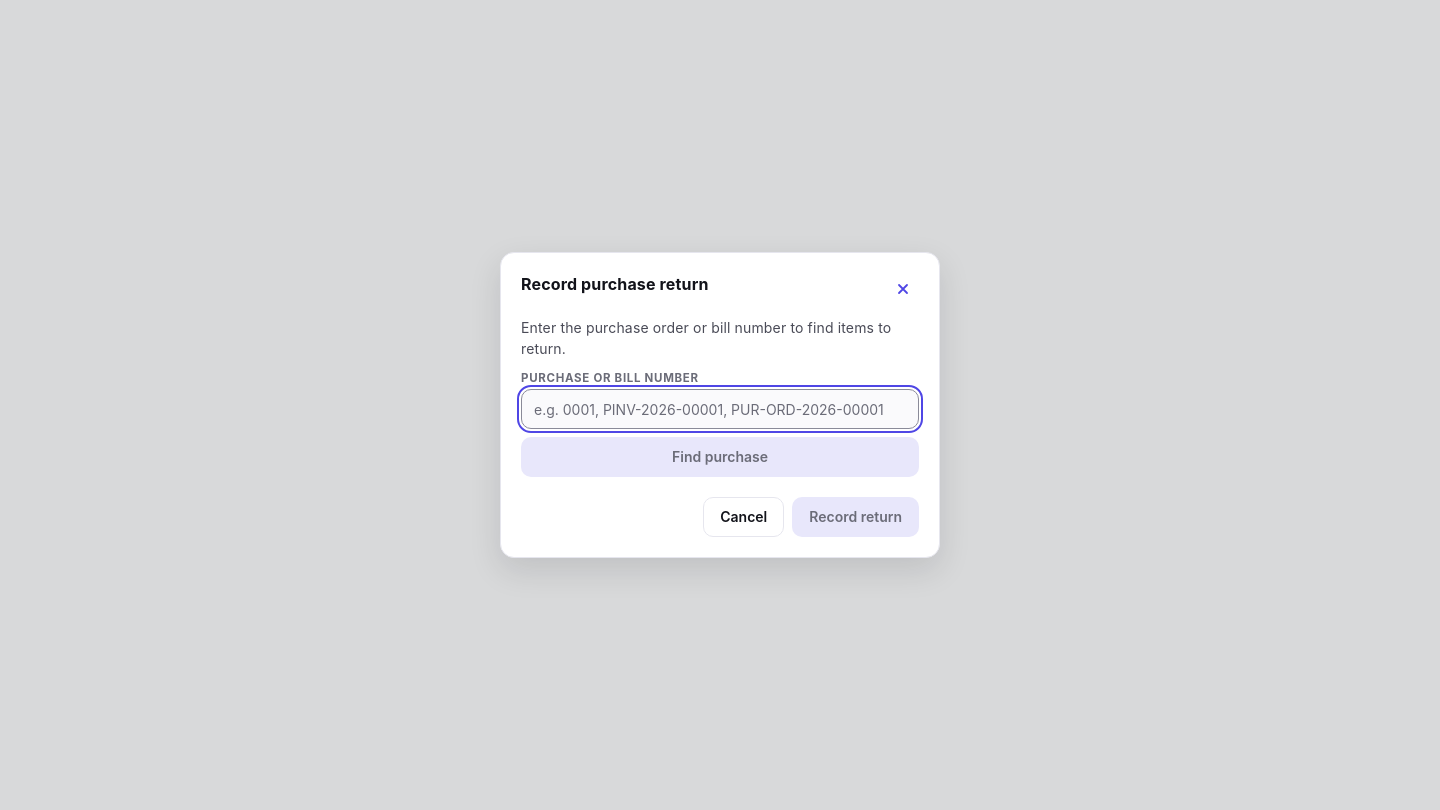
Test: PurchaseReturnDialog › standalone mode allows finding purchase by number
Step 1. Type "#O0001" into the field labelled "Purchase or Bill number" → (720, 410), box [522,390,918,428]
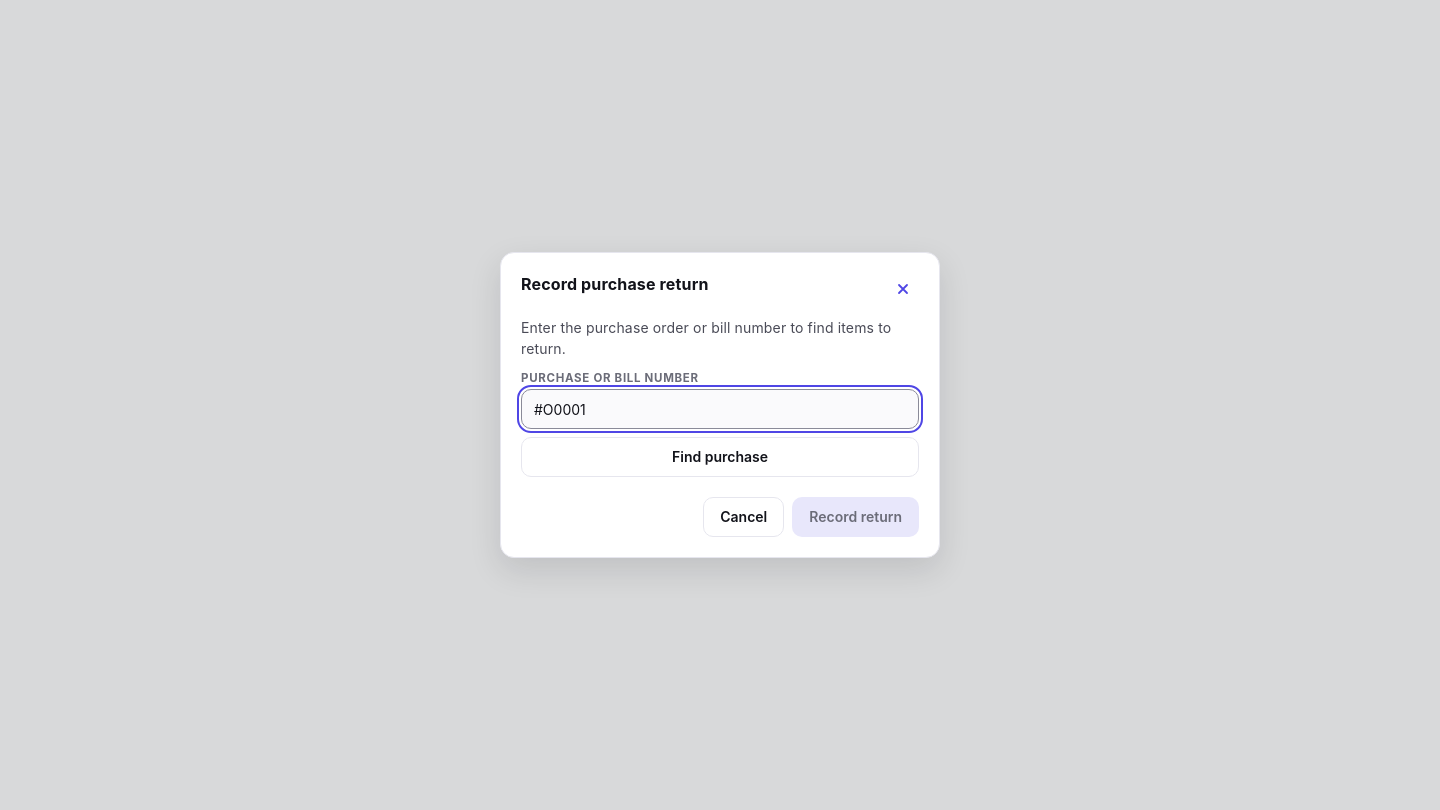
Step 2. Click the button "Find purchase" → click(720, 458), box [521,438,919,478]
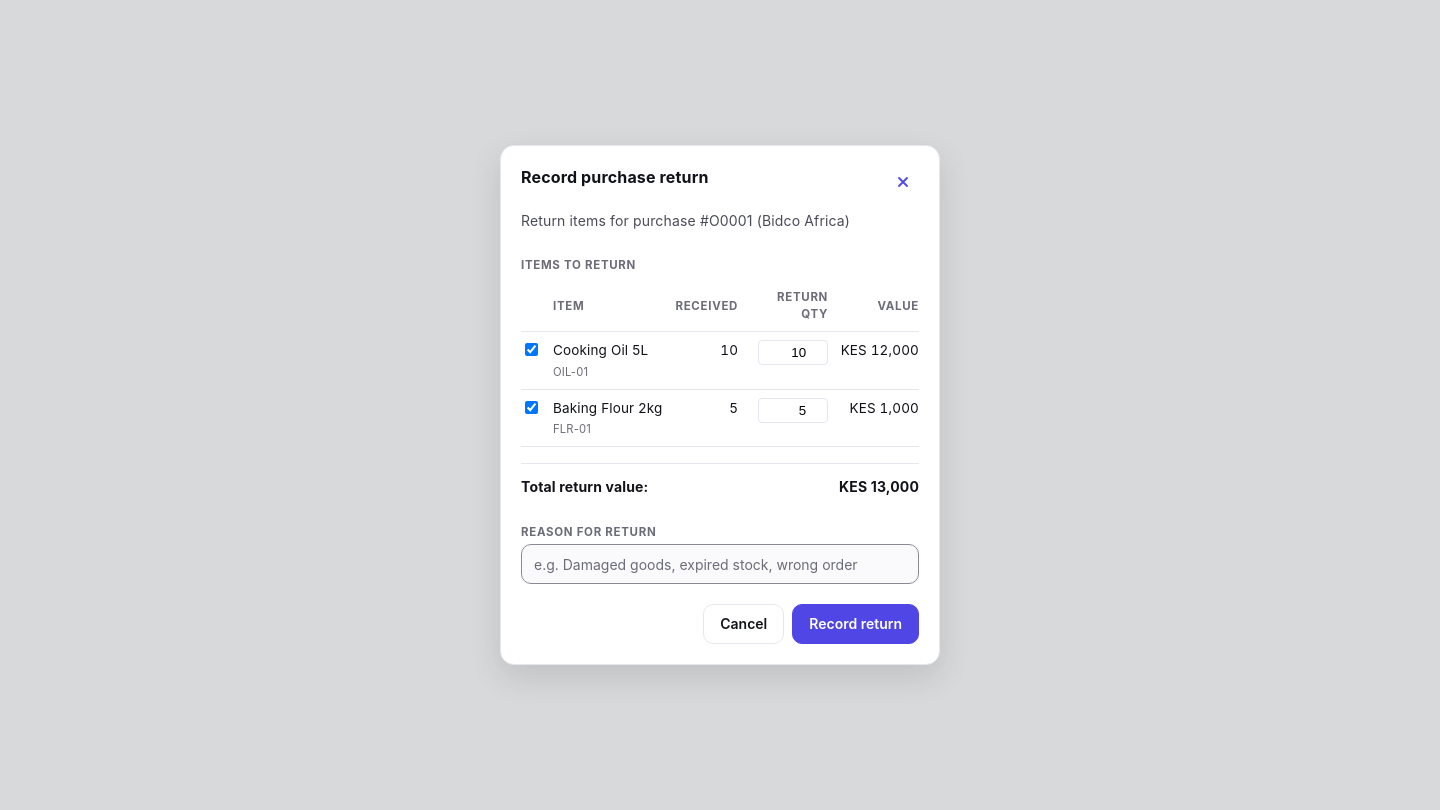
Now the text "Cooking Oil 5L" is shown, box [553,340,663,361]
